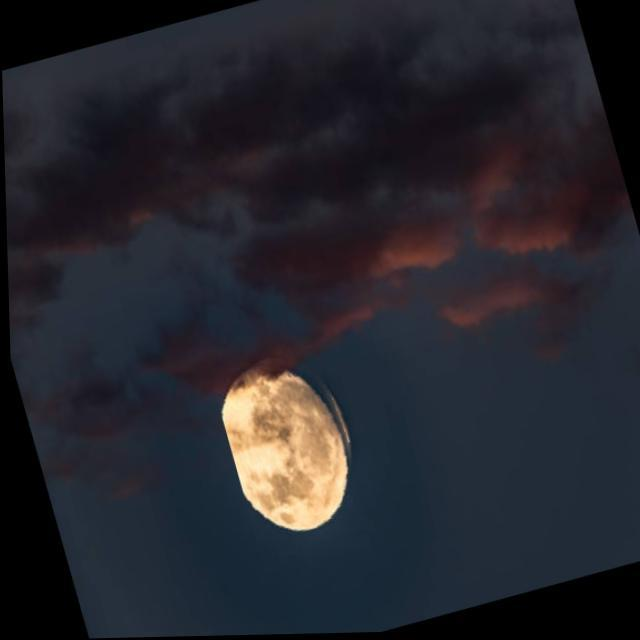moon: (206, 340, 372, 545)
